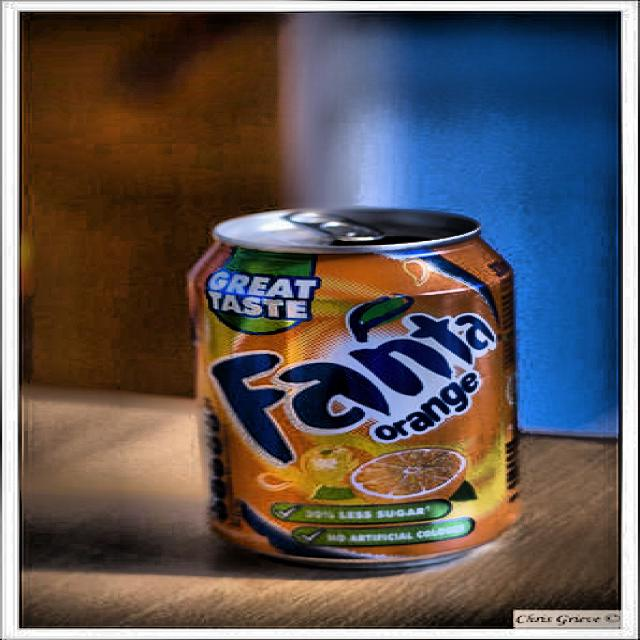Cans: (179, 192, 539, 575)
